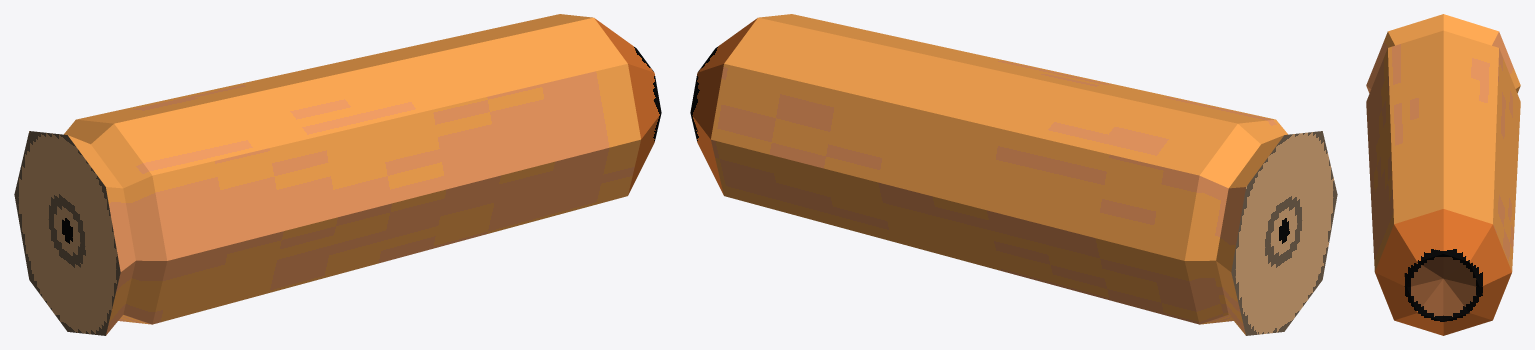
The model's file is 357Bullet.glb.
The picture shows the model from 3 angles, left to right: view 1: azimuth 30°, elevation 25°; view 2: azimuth 150°, elevation 25°; view 3: azimuth 270°, elevation 25°; orthographic projection. The views are drawn at different scales.
Visible parts, largest first — view 1: Bullet; view 2: Bullet; view 3: Bullet.
Boxes of the visible parts, x1=… form: Bullet: x1=14, y1=14, x2=661, y2=335; Bullet: x1=690, y1=14, x2=1337, y2=335; Bullet: x1=1366, y1=14, x2=1520, y2=335.
Bounding box in the file's own units: 0.8508 × 0.2812 × 0.2753.
Materials: 3 (3 with a texture image).
